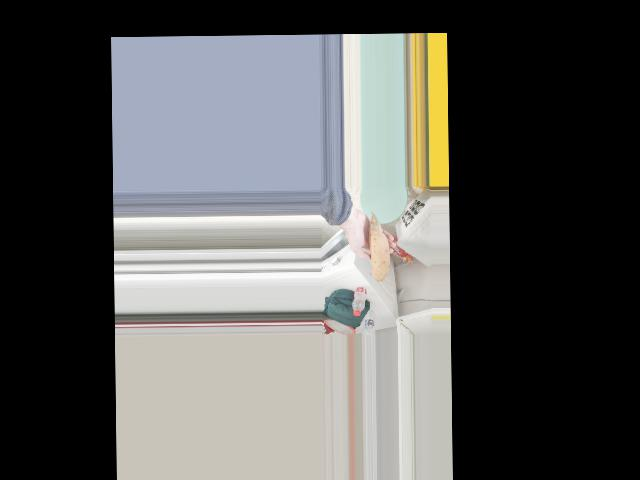sweet_potato: (367, 215, 385, 275)
